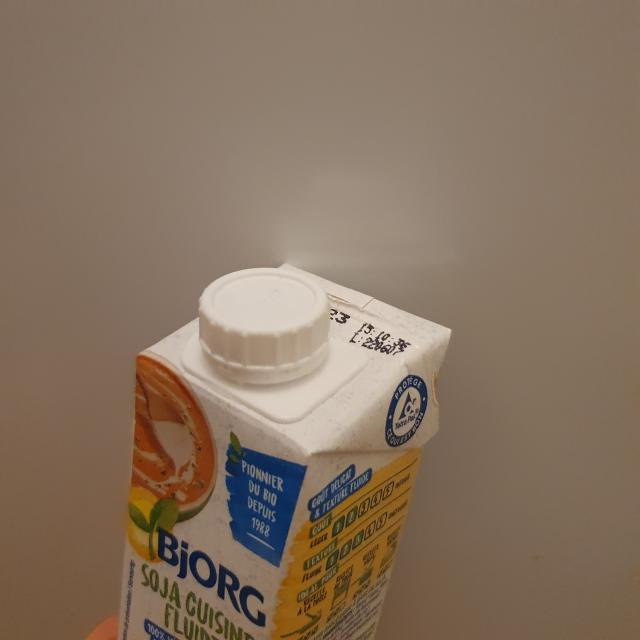PaperCardboard: (121, 256, 459, 640)
